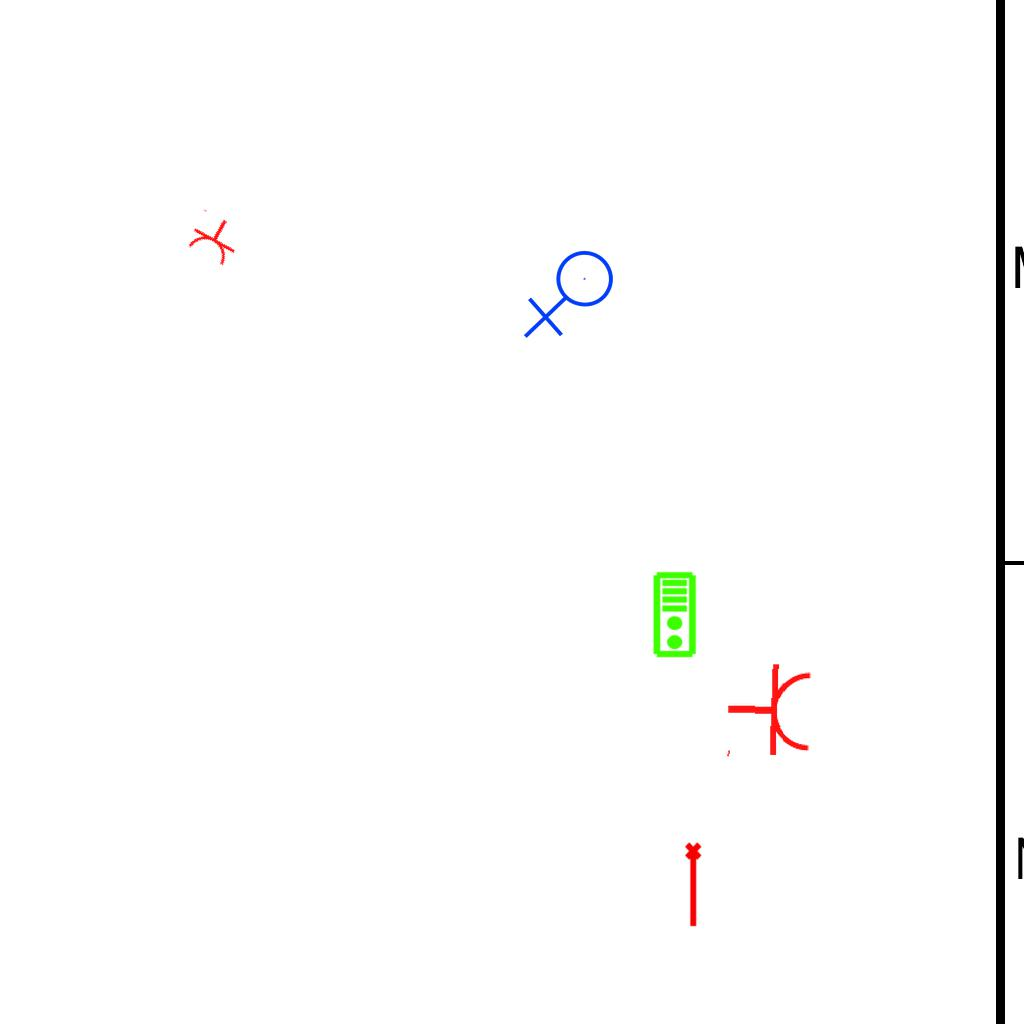ASR_Ansaugoeffnung: (683, 841, 706, 929)
Elektroanschluss_allgemein_230V_Geraeteanschlussdose_230V: (523, 249, 622, 343)
Gegensprechanlage_mit_Video: (652, 571, 699, 659)
Schukosteckdose_einfach: (724, 660, 815, 764), (182, 207, 247, 269)
